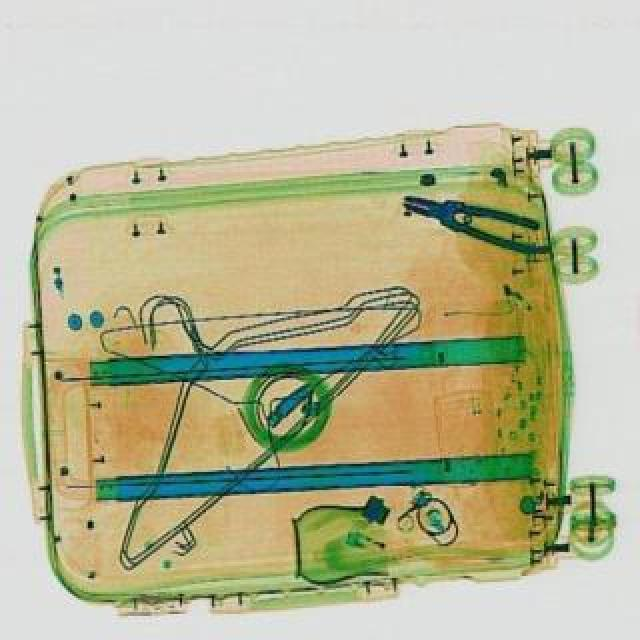wrench: (396, 180, 556, 258)
